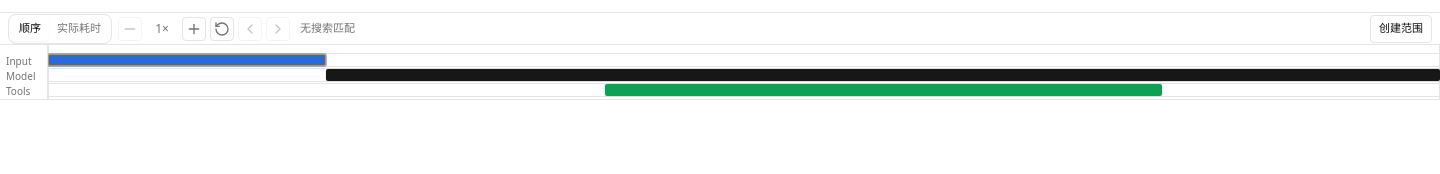
Scenario: TrajectoryOverview › 初始 range 为空时可只用可见按钮和键盘创建、调整并清除范围
The width and height of the screenshot is (1440, 174).
Click the button "创建范围" at (1401, 28), box 1370,14 -> 1432,42
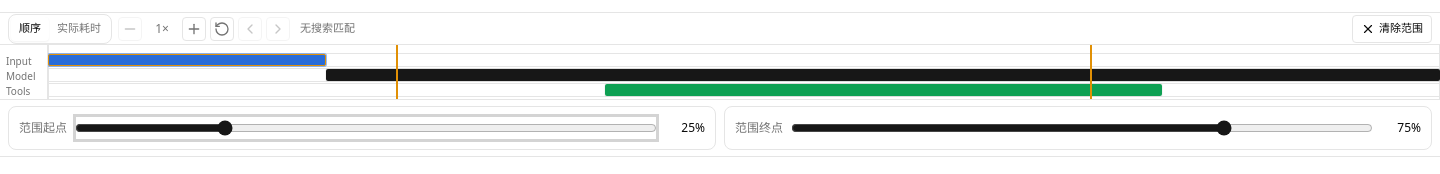
Press ArrowRight in the slider labelled "范围起点", box 75,116 -> 657,140
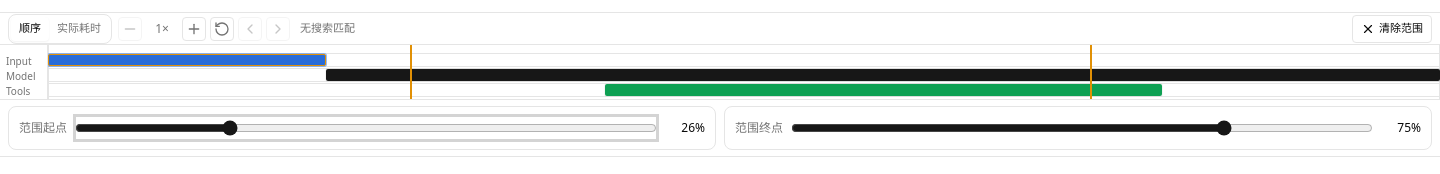
Press ArrowLeft in the slider labelled "范围终点", box 791,116 -> 1373,140
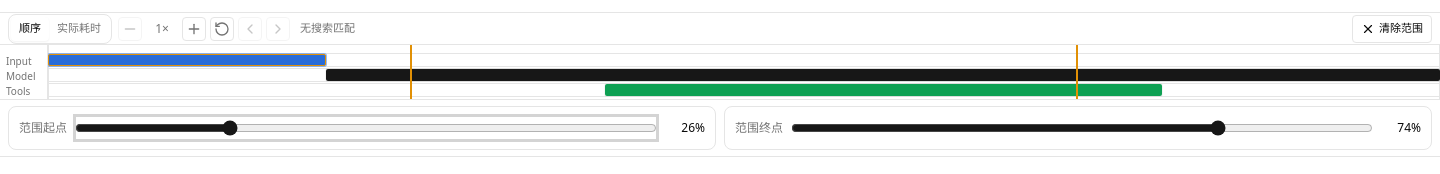
Press Escape in the slider labelled "范围终点", box 791,116 -> 1373,140
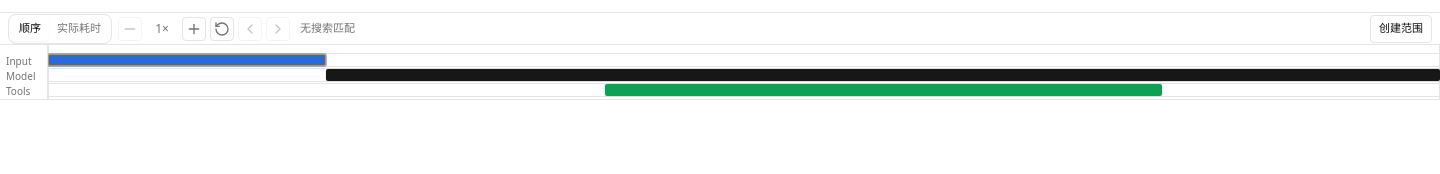
expect the button "创建范围" is shown: met, box 1370,14 -> 1432,42
